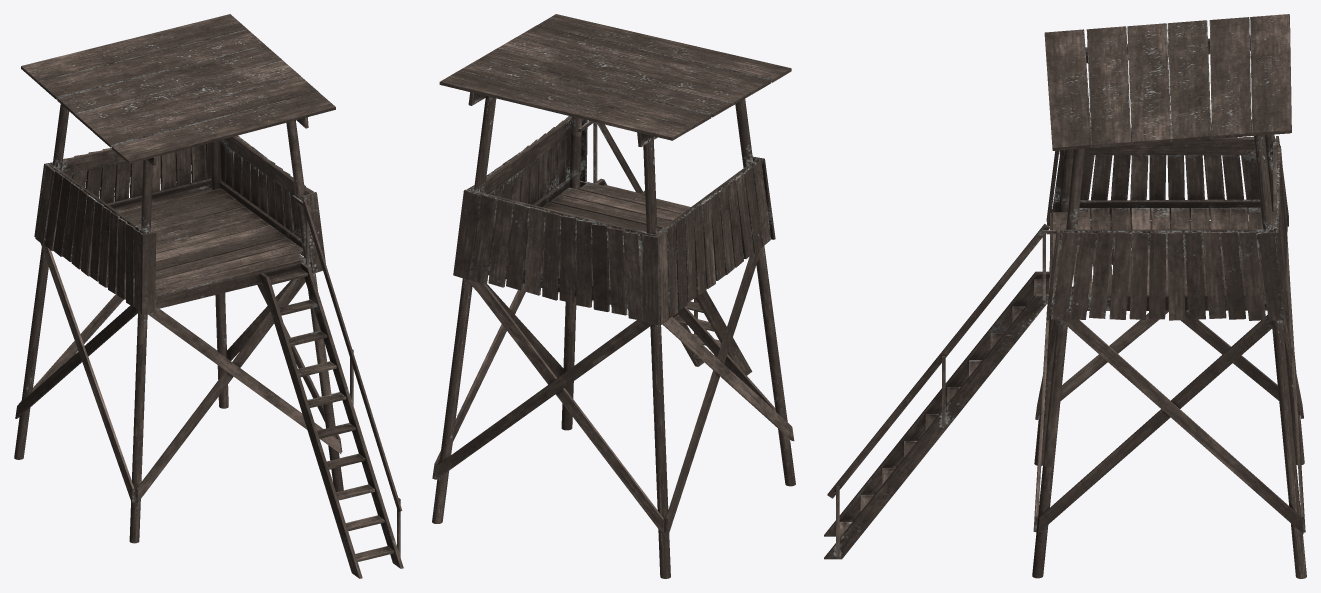
Rendered from watch_tower.glb.
3 views of the same model, side by side, from view 1: azimuth 30°, elevation 25°; view 2: azimuth 150°, elevation 25°; view 3: azimuth 270°, elevation 25° (orthographic). The views are drawn at different scales.
Visible parts, largest first — view 1: watch-tower_0; view 2: watch-tower_0; view 3: watch-tower_0.
Part boxes in pixels (x1,y1,x2,y2): watch-tower_0: (14,14,403,578); watch-tower_0: (432,14,795,578); watch-tower_0: (824,14,1306,578).
Size of the model in its own units: 2.56 by 4.51 by 4.4.
1 material, 1 textured.
